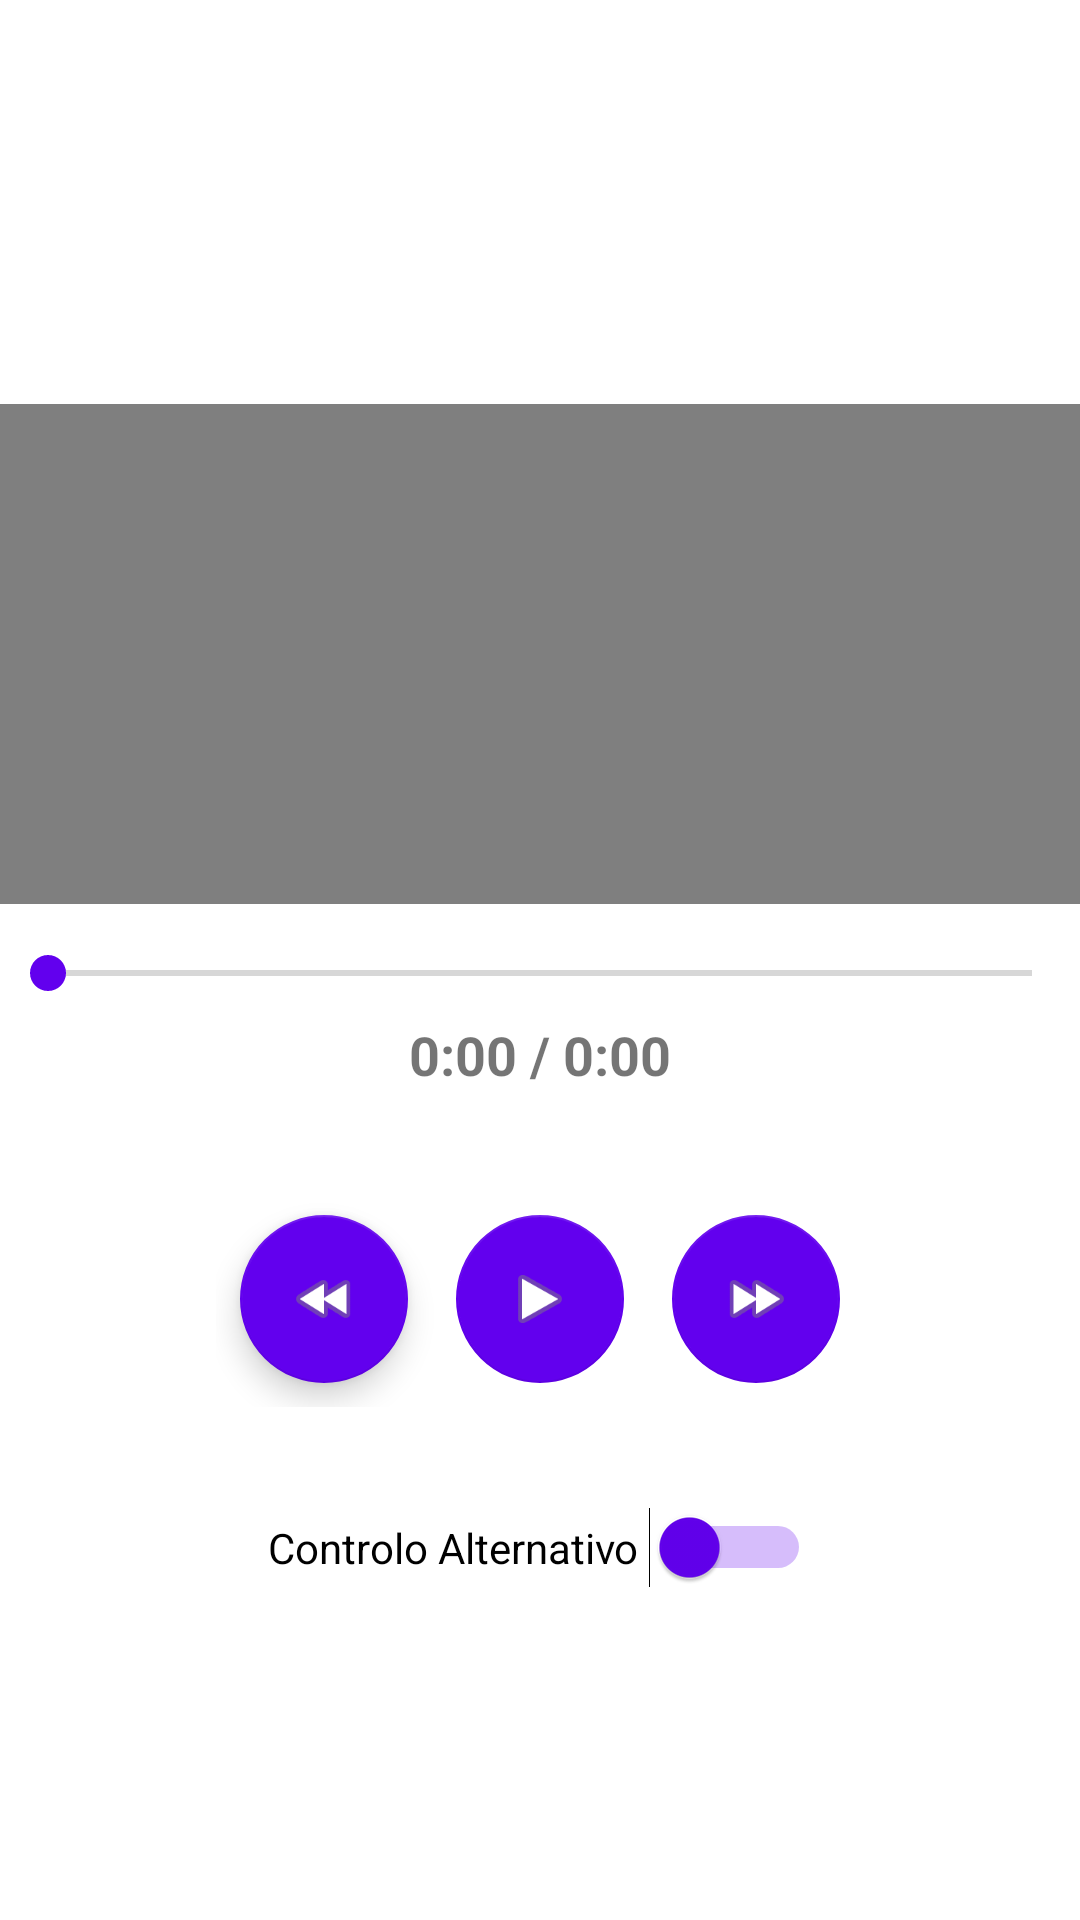

Where icons sit on this 1080 x 1920 app screen, as Rect(x1, y1, x2, y2):
play: Rect(456, 1215, 624, 1383)
rew: Rect(240, 1215, 408, 1383)
